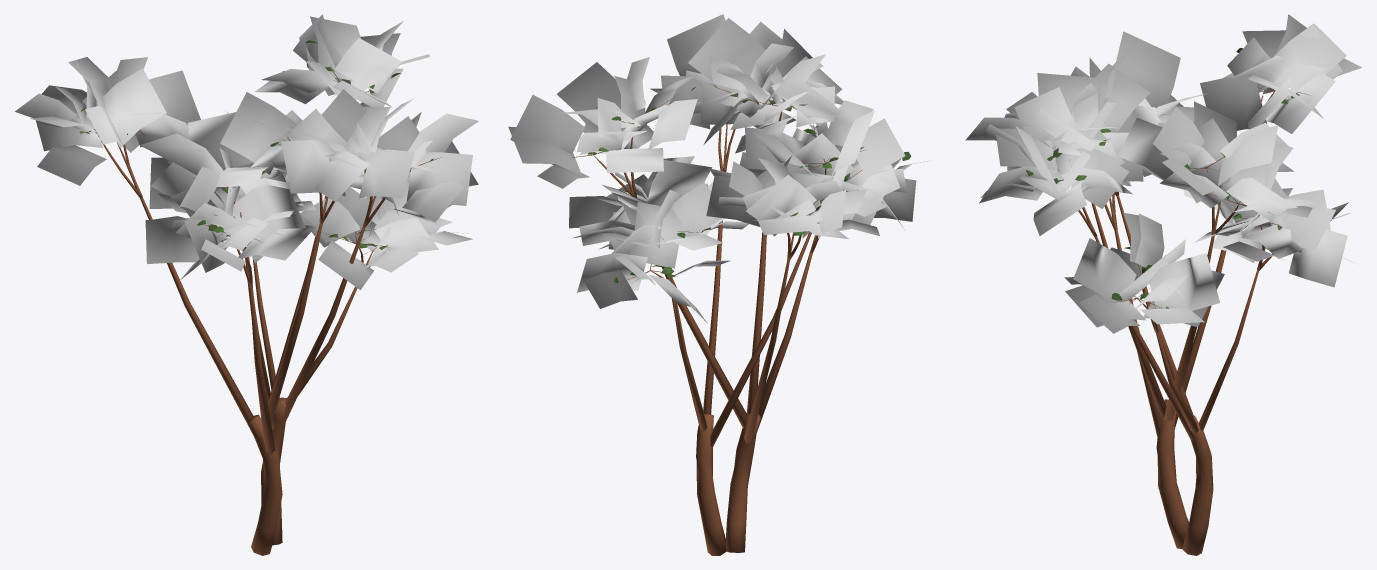
The model's file is V7_Arbousier_2_Niveau1.fbx.
3 renders of one model, left to right at view 1: azimuth 30°, elevation 25°; view 2: azimuth 150°, elevation 25°; view 3: azimuth 270°, elevation 25°, orthographic. The views are drawn at different scales.
Parts seen in each view (by area): view 1: V7_Arbousier_2_Detail1; view 2: V7_Arbousier_2_Detail1; view 3: V7_Arbousier_2_Detail1.
Part boxes in pixels (bbox=[...]): V7_Arbousier_2_Detail1: bbox=[15, 14, 478, 555]; V7_Arbousier_2_Detail1: bbox=[508, 14, 929, 555]; V7_Arbousier_2_Detail1: bbox=[965, 14, 1361, 555].
Bounding box in the file's own units: 347 × 435 × 324.
